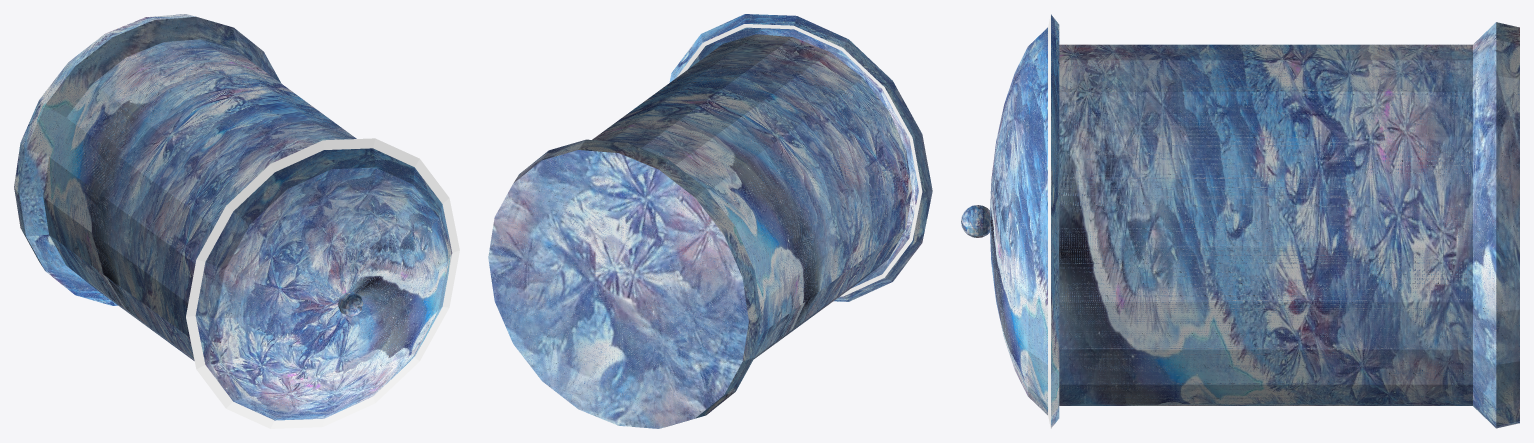
File: model_align.obj
3 renders of one model, left to right at view 1: azimuth 30°, elevation 25°; view 2: azimuth 150°, elevation 25°; view 3: azimuth 270°, elevation 25°, orthographic. The views are drawn at different scales.
Visible parts, largest first — view 1: mesh3_mesh3-geometry, mesh2_mesh2-geometry, mesh1_mesh1-geometry; view 2: mesh3_mesh3-geometry, mesh2_mesh2-geometry; view 3: mesh3_mesh3-geometry, mesh2_mesh2-geometry, mesh1_mesh1-geometry.
Part boxes in pixels (left/top/right/bottom): mesh3_mesh3-geometry: left=14, top=14, right=356, bottom=360; mesh2_mesh2-geometry: left=186, top=138, right=459, bottom=428; mesh1_mesh1-geometry: left=338, top=291, right=363, bottom=316; mesh3_mesh3-geometry: left=488, top=34, right=912, bottom=428; mesh2_mesh2-geometry: left=669, top=14, right=932, bottom=301; mesh3_mesh3-geometry: left=1059, top=22, right=1519, bottom=428; mesh2_mesh2-geometry: left=990, top=14, right=1059, bottom=428; mesh1_mesh1-geometry: left=961, top=205, right=989, bottom=237.
Size of the model in its own units: 0.1425 by 0.1426 by 0.1918.
